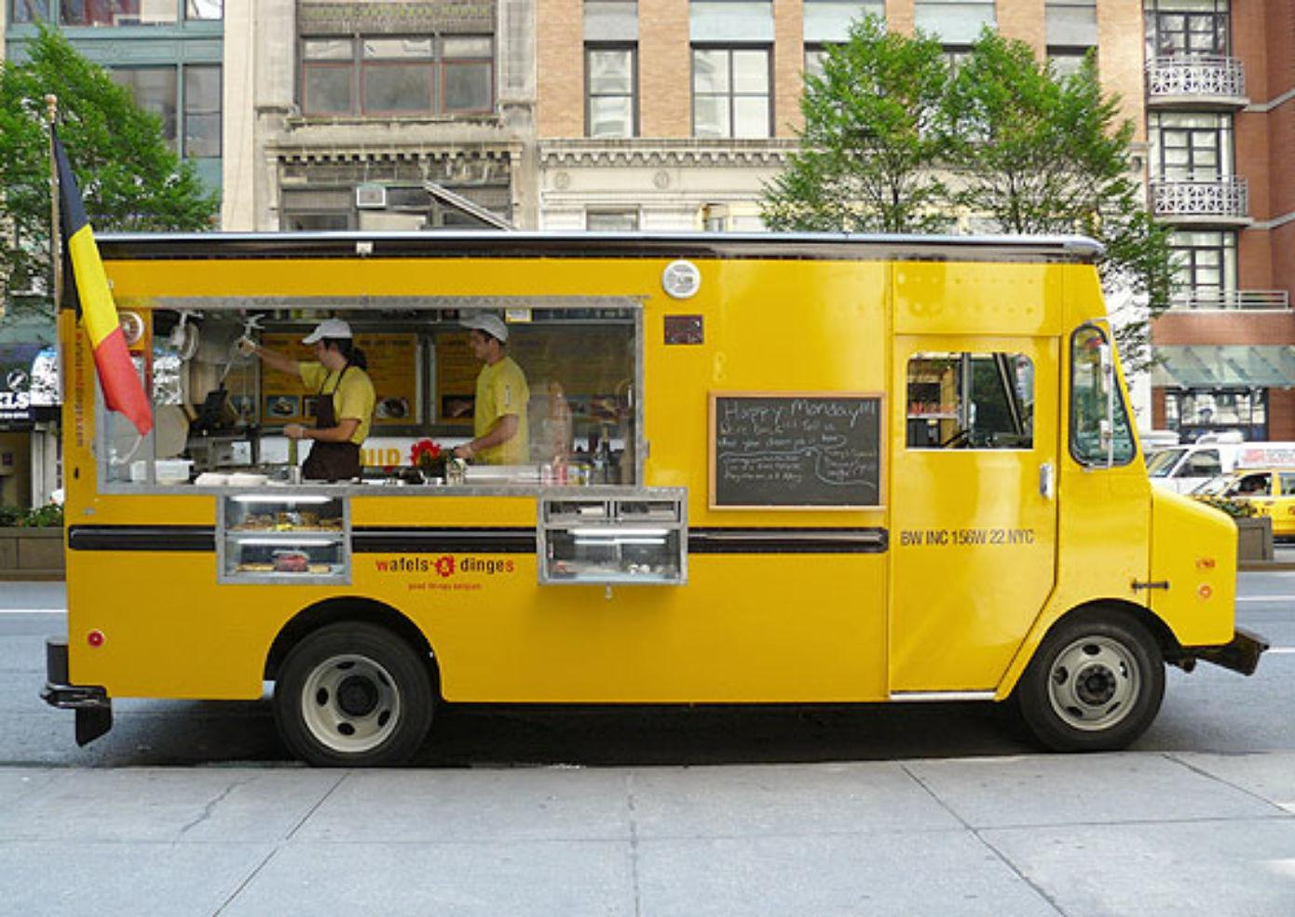Bus: (48, 226, 1266, 772)
